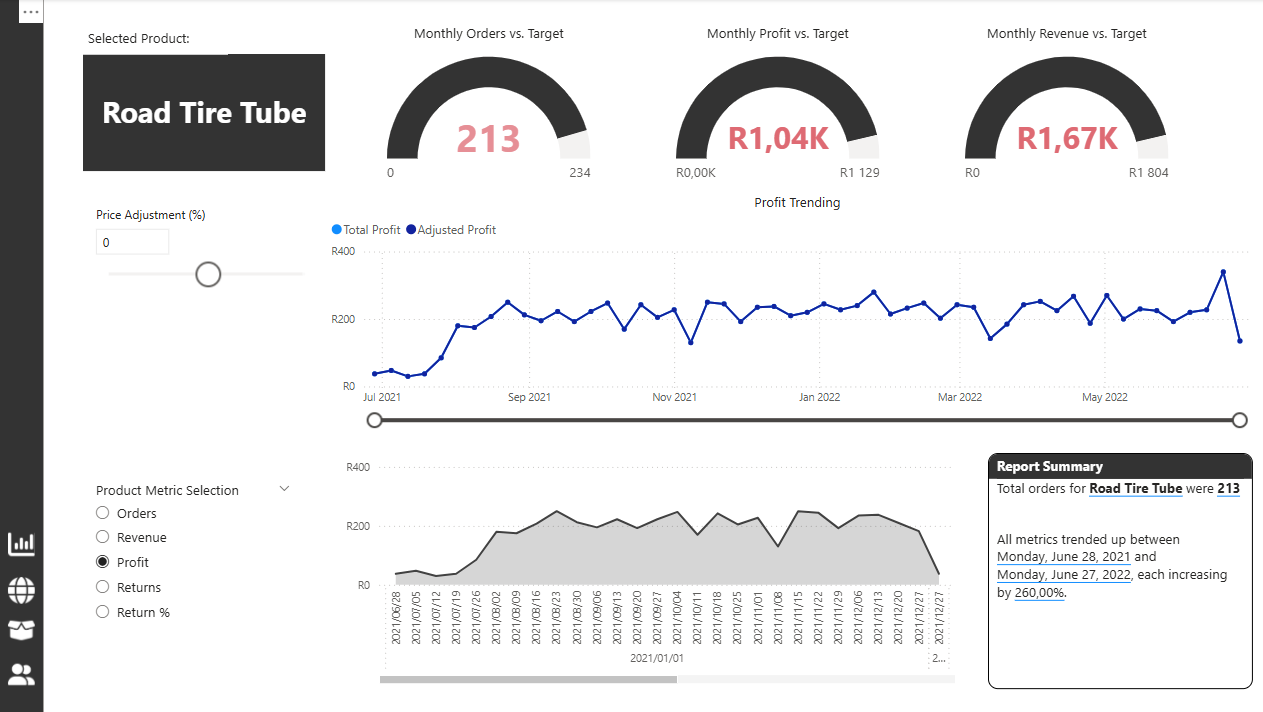

This screenshot's page, from the dashboard's own definition file:
{"tool":"powerbi","page":{"name":"Product Detail","canvas":[1280,720],"ordinal":2},"visuals":[{"type":"shape","box":[0,0,45,720],"z":0},{"type":"actionButton","box":[5.4,531.9,35,35],"z":0,"group":"g1"},{"type":"gauge","title":"Monthly Orders vs. Target","fields":{"Y":["Measure Table.Total Orders"],"MaxValue":["Measure Table.Order Target"]},"box":[386.1,24.9,215.5,178.6],"z":1000},{"type":"actionButton","box":[5.4,578.5,35,35],"z":1000,"group":"g1"},{"type":"gauge","title":"Monthly Revenue vs. Target","fields":{"Y":["Measure Table.Total Revenue"],"MaxValue":["Measure Table.Revenue Target"]},"box":[968.7,24.9,215.5,178.6],"z":2000},{"type":"actionButton","box":[5.4,618.8,35,35],"z":2000,"group":"g1"},{"type":"gauge","title":"Monthly Profit vs. Target","fields":{"Y":["Measure Table.Total Profit"],"MaxValue":["Measure Table.Profit Target"]},"box":[677.4,24.9,215.5,178.6],"z":3000},{"type":"actionButton","box":[5.4,662.6,35,35],"z":3000,"group":"g1"},{"type":"lineChart","title":"Profit Trending","fields":{"Category":["Calendar Lookup.Date Hierarchy.Start of Year","Calendar Lookup.Date Hierarchy.Start of Month","Calendar Lookup.Date Hierarchy.Start of Week","Calendar Lookup.Date Hierarchy.Date"],"Y":["Measure Table.Total Profit","Measure Table.Adjusted Profit"]},"box":[329.6,195.2,950.1,240],"z":4000},{"type":"lineChart","title":"Returns Trending","fields":{"Y":["Measure Table.Total Profit"],"Category":["Calendar Lookup.Date Hierarchy.Start of Year","Calendar Lookup.Date Hierarchy.Start of Month","Calendar Lookup.Date Hierarchy.Start of Week"]},"box":[344.7,457.6,623.9,236.9],"z":5000},{"type":"card","fields":{"Values":["Min(Product Lookup.ProductName)"]},"box":[84.8,55.9,244.4,117.7],"z":6000},{"type":"textbox","box":[84.8,24.9,145.7,30.9],"z":7000},{"type":"group","id":"g1","title":"Navigation Buttons","box":[5.4,531.9,35,165.7],"z":8000},{"type":"slicer","fields":{"Values":["Price Adjustment (%).Price Adjustment (%)"]},"box":[84.7,203.6,244.9,111.9],"z":9000},{"type":"slicer","fields":{"Values":["Product Metric Selection.Product Metric Selection"]},"box":[84.7,480.8,220.7,178.4],"z":10000},{"type":"textbox","title":"Report Summary","box":[996.8,457.6,267.1,237.9],"z":11000}]}

Visuals, with their boxes on the page's 1280x720 design canvas (x1, y1, x2, y2). These are canvas units, not pixel positions in the 1263x712 screenshot, which may show the page scaled, cropped or inside an application window:
shape: {"left": 0, "top": 0, "right": 45, "bottom": 720}
actionButton: {"left": 5, "top": 532, "right": 40, "bottom": 567}
"Monthly Orders vs. Target" gauge: {"left": 386, "top": 25, "right": 602, "bottom": 204}
actionButton: {"left": 5, "top": 578, "right": 40, "bottom": 614}
"Monthly Revenue vs. Target" gauge: {"left": 969, "top": 25, "right": 1184, "bottom": 204}
actionButton: {"left": 5, "top": 619, "right": 40, "bottom": 654}
"Monthly Profit vs. Target" gauge: {"left": 677, "top": 25, "right": 893, "bottom": 204}
actionButton: {"left": 5, "top": 663, "right": 40, "bottom": 698}
"Profit Trending" lineChart: {"left": 330, "top": 195, "right": 1280, "bottom": 435}
"Returns Trending" lineChart: {"left": 345, "top": 458, "right": 969, "bottom": 694}
card - Min(Product Lookup.ProductName): {"left": 85, "top": 56, "right": 329, "bottom": 174}
textbox: {"left": 85, "top": 25, "right": 230, "bottom": 56}
"Navigation Buttons" group: {"left": 5, "top": 532, "right": 40, "bottom": 698}
slicer - Price Adjustment (%).Price Adjustment (%): {"left": 85, "top": 204, "right": 330, "bottom": 316}
slicer - Product Metric Selection.Product Metric Selection: {"left": 85, "top": 481, "right": 305, "bottom": 659}
"Report Summary" textbox: {"left": 997, "top": 458, "right": 1264, "bottom": 696}
